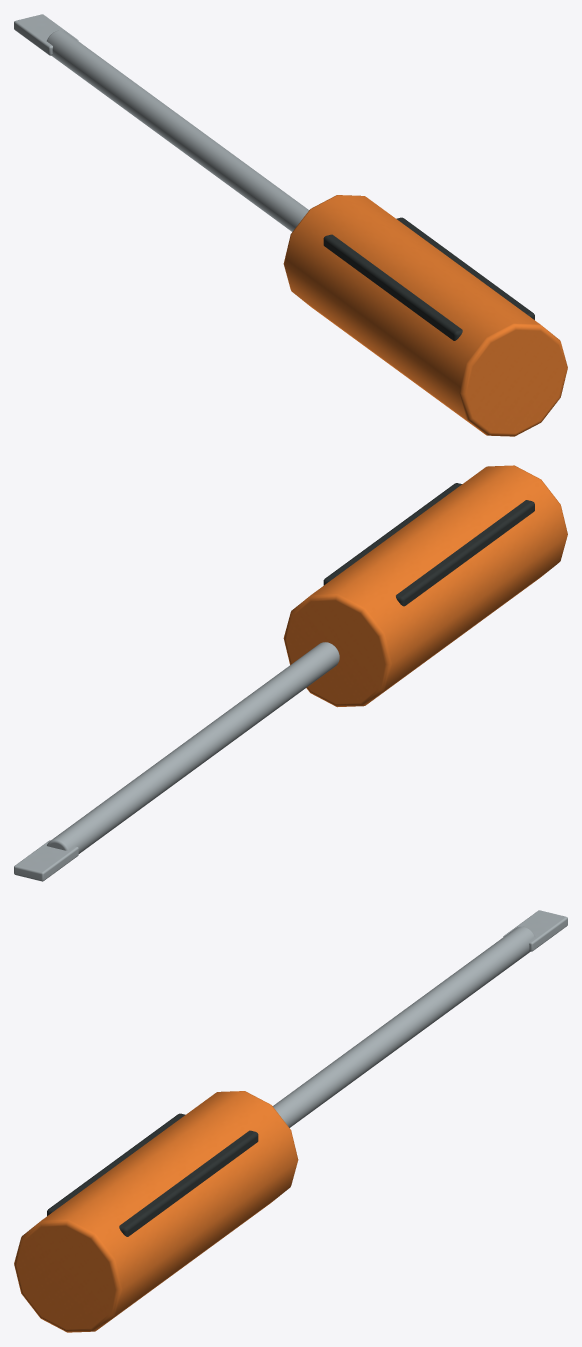
The model's file is hand-screwdriver-tool.glb.
The picture shows the model from 3 angles, top to bottom: view 1: azimuth 30°, elevation 25°; view 2: azimuth 150°, elevation 25°; view 3: azimuth 330°, elevation 25°; orthographic projection.
Parts seen in each view (by area): view 1: Amber screwdriver grip, Long driver steel shaft, Grip flute, Flattened screwdriver tip, Grip flute.001; view 2: Amber screwdriver grip, Long driver steel shaft, Grip flute, Flattened screwdriver tip, Grip flute.001; view 3: Amber screwdriver grip, Long driver steel shaft, Grip flute.001, Flattened screwdriver tip, Grip flute.
Part boxes in pixels (left/top/right/bottom): Amber screwdriver grip: left=283, top=195, right=567, bottom=436; Long driver steel shaft: left=47, top=30, right=308, bottom=231; Grip flute: left=323, top=234, right=462, bottom=340; Flattened screwdriver tip: left=14, top=14, right=78, bottom=55; Grip flute.001: left=396, top=217, right=534, bottom=319; Amber screwdriver grip: left=283, top=465, right=567, bottom=707; Long driver steel shaft: left=47, top=642, right=339, bottom=853; Grip flute: left=396, top=500, right=534, bottom=606; Flattened screwdriver tip: left=14, top=840, right=78, bottom=881; Grip flute.001: left=323, top=483, right=461, bottom=585; Amber screwdriver grip: left=14, top=1091, right=298, bottom=1332; Long driver steel shaft: left=273, top=926, right=534, bottom=1127; Grip flute.001: left=119, top=1130, right=258, bottom=1236; Flattened screwdriver tip: left=503, top=910, right=567, bottom=951; Grip flute: left=47, top=1113, right=185, bottom=1215.
Bounding box in the file's own units: 0.036 × 0.036 × 0.2815.
3 materials, 3 textured.
